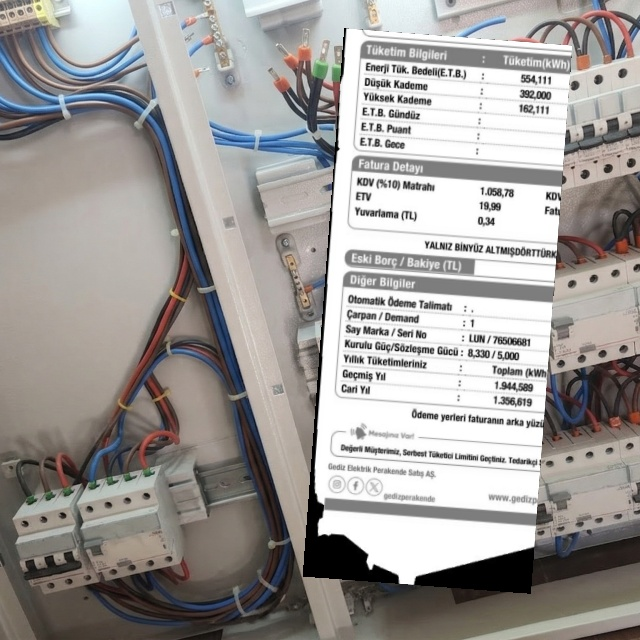electricity-bill: (303, 27, 572, 593)
